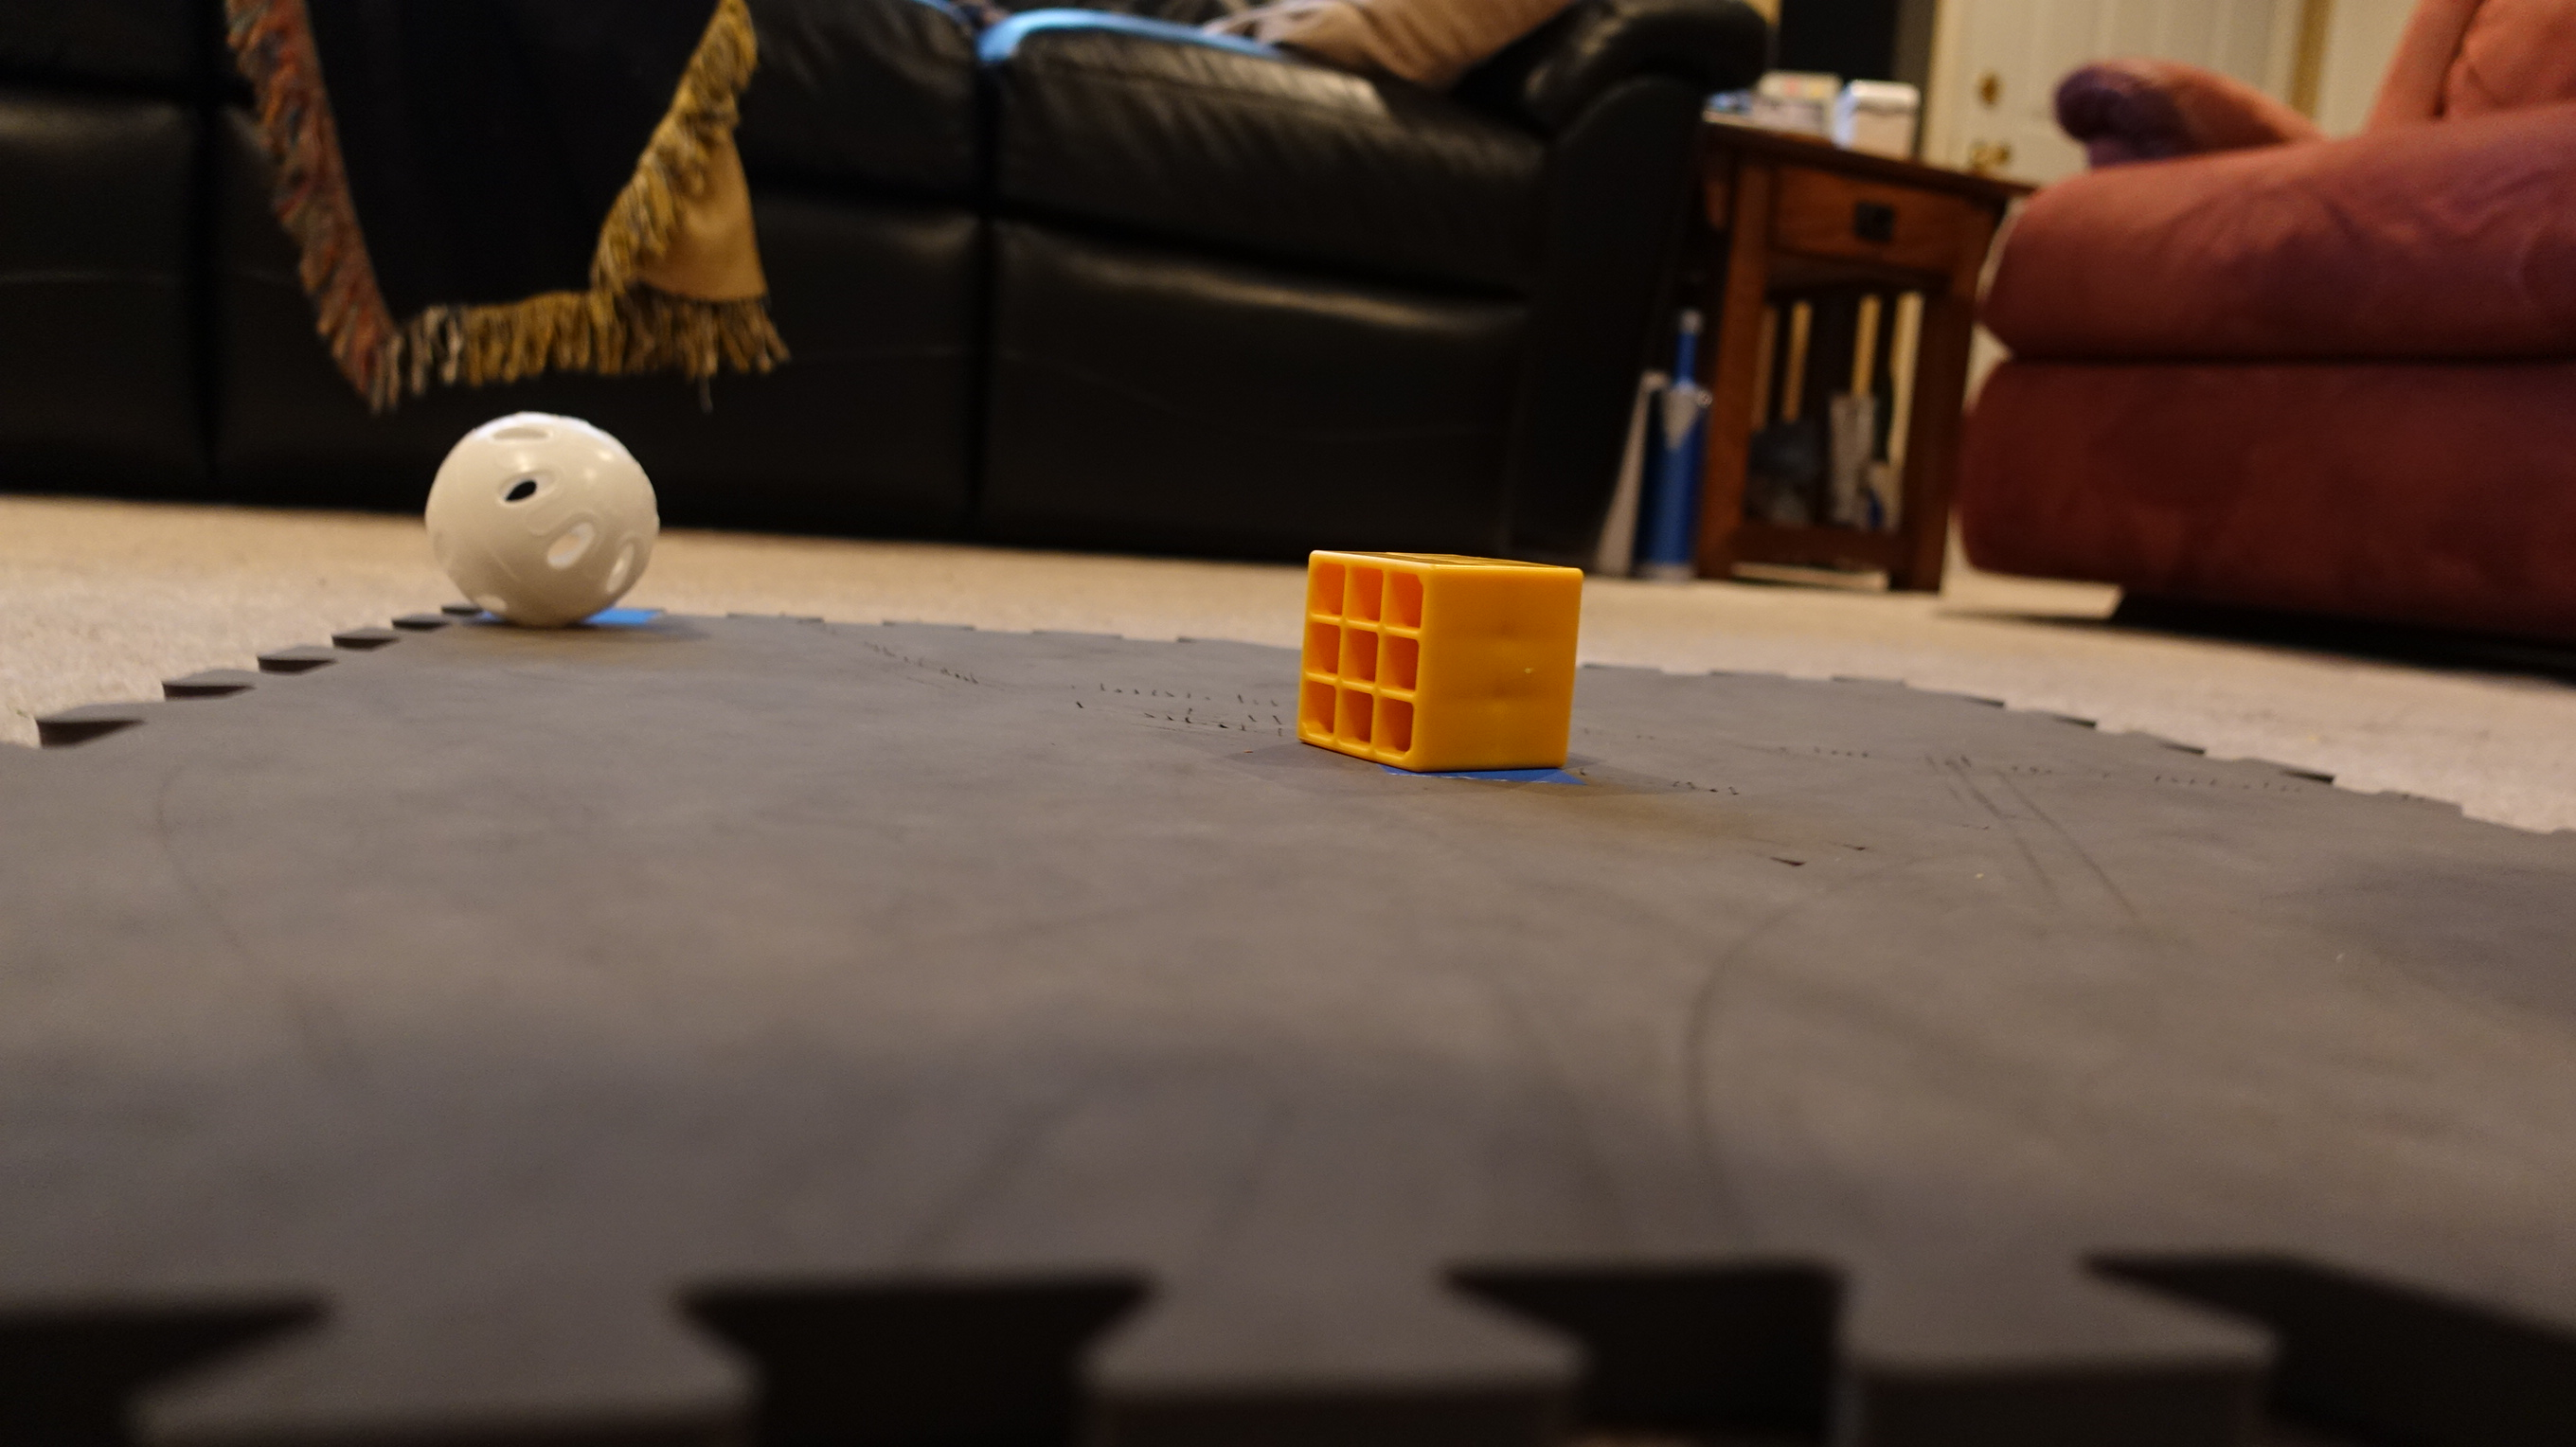gold: (1297, 534, 1594, 787)
silver: (425, 402, 665, 646)
